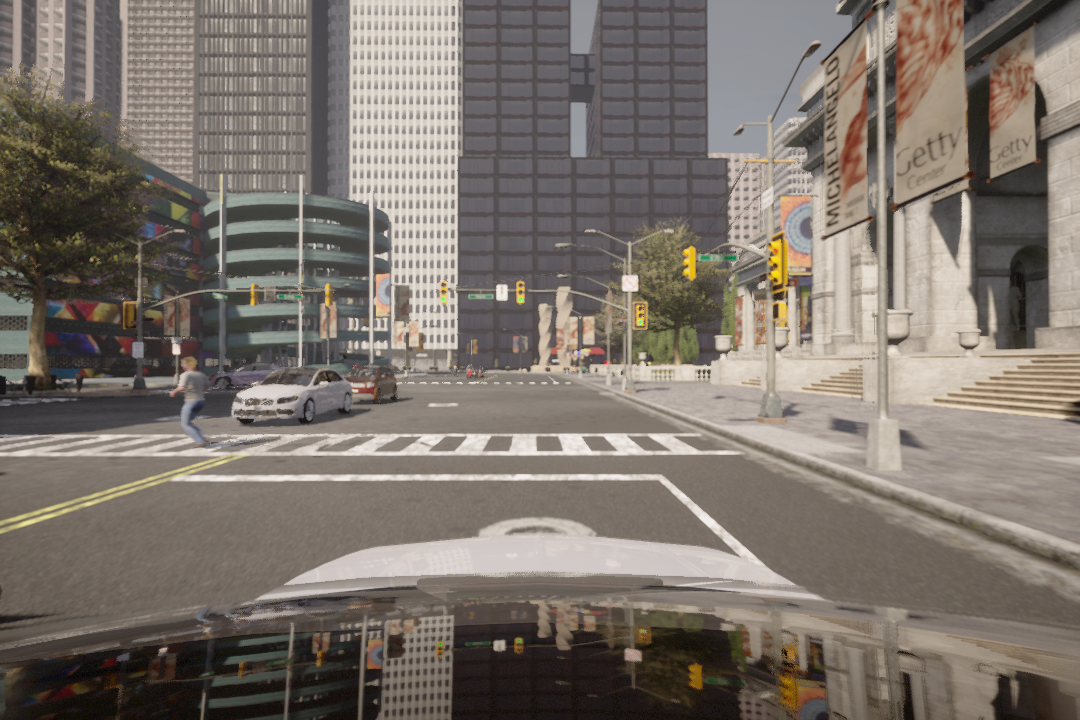TrafficLight: (767, 234, 791, 291), (681, 241, 701, 281), (634, 301, 649, 334), (437, 280, 452, 306), (514, 279, 525, 304)
TrafficSign: (619, 274, 637, 294)
walkside: (2, 430, 753, 467)
